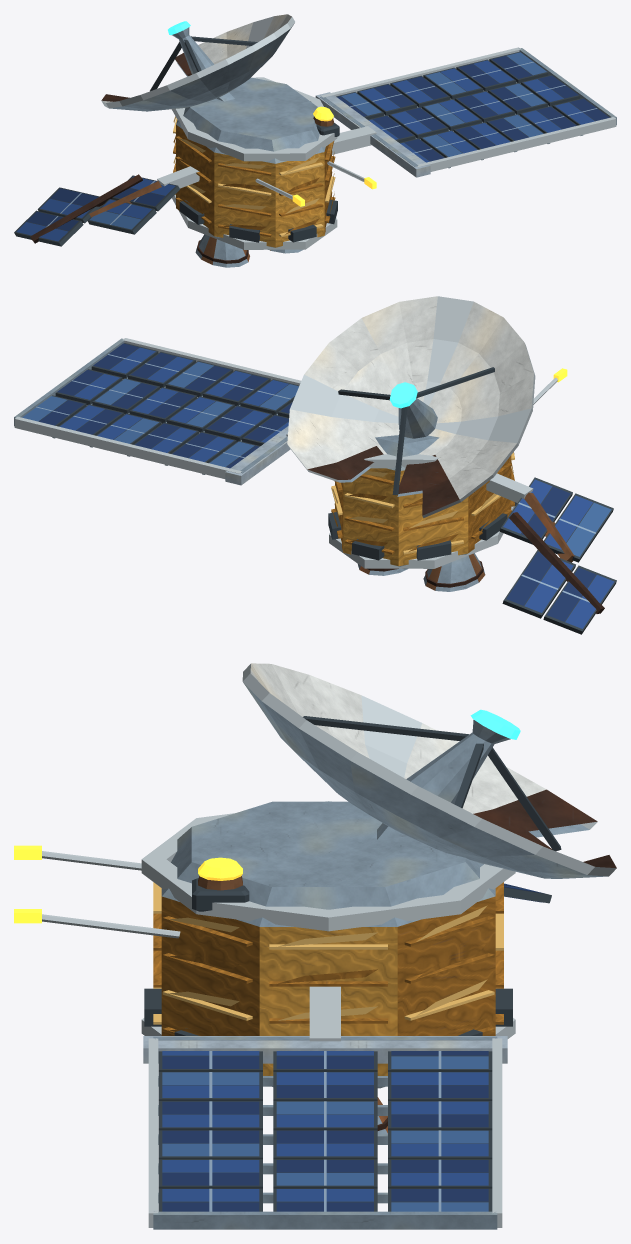
The model's file is broken_satellite.glb.
3 views of the same model, one above another, from view 1: azimuth 30°, elevation 25°; view 2: azimuth 150°, elevation 25°; view 3: azimuth 270°, elevation 25° (orthographic). The views are drawn at different scales.
Visible parts, largest first — view 1: Telemetry bus | folded Kapton and thermal frame, Intact photovoltaic wing, Fractured telemetry reflector, Bent photovoltaic wing | sheared hinge, Exposed thrust pack; view 2: Fractured telemetry reflector, Intact photovoltaic wing, Telemetry bus | folded Kapton and thermal frame, Bent photovoltaic wing | sheared hinge, Exposed thrust pack; view 3: Telemetry bus | folded Kapton and thermal frame, Intact photovoltaic wing, Fractured telemetry reflector, Exposed thrust pack, Amber distress pulse.
Part boxes in pixels (x1,y1,x2,y2): Telemetry bus | folded Kapton and thermal frame: (172, 77, 337, 250); Intact photovoltaic wing: (315, 47, 616, 177); Fractured telemetry reflector: (101, 14, 294, 111); Bent photovoltaic wing | sheared hinge: (14, 166, 199, 246); Exposed thrust pack: (195, 116, 376, 267); Fractured telemetry reflector: (287, 296, 535, 518); Intact photovoltaic wing: (14, 338, 301, 485); Telemetry bus | folded Kapton and thermal frame: (328, 435, 517, 569); Bent photovoltaic wing | sheared hinge: (486, 473, 616, 634); Exposed thrust pack: (358, 368, 567, 591); Telemetry bus | folded Kapton and thermal frame: (141, 801, 515, 1088); Intact photovoltaic wing: (143, 986, 507, 1229); Fractured telemetry reflector: (242, 663, 616, 878); Exposed thrust pack: (14, 845, 387, 1134); Amber distress pulse: (198, 857, 242, 880).
Bounding box in the file's own units: 14 × 6 × 8.
16 materials, 7 textured.
